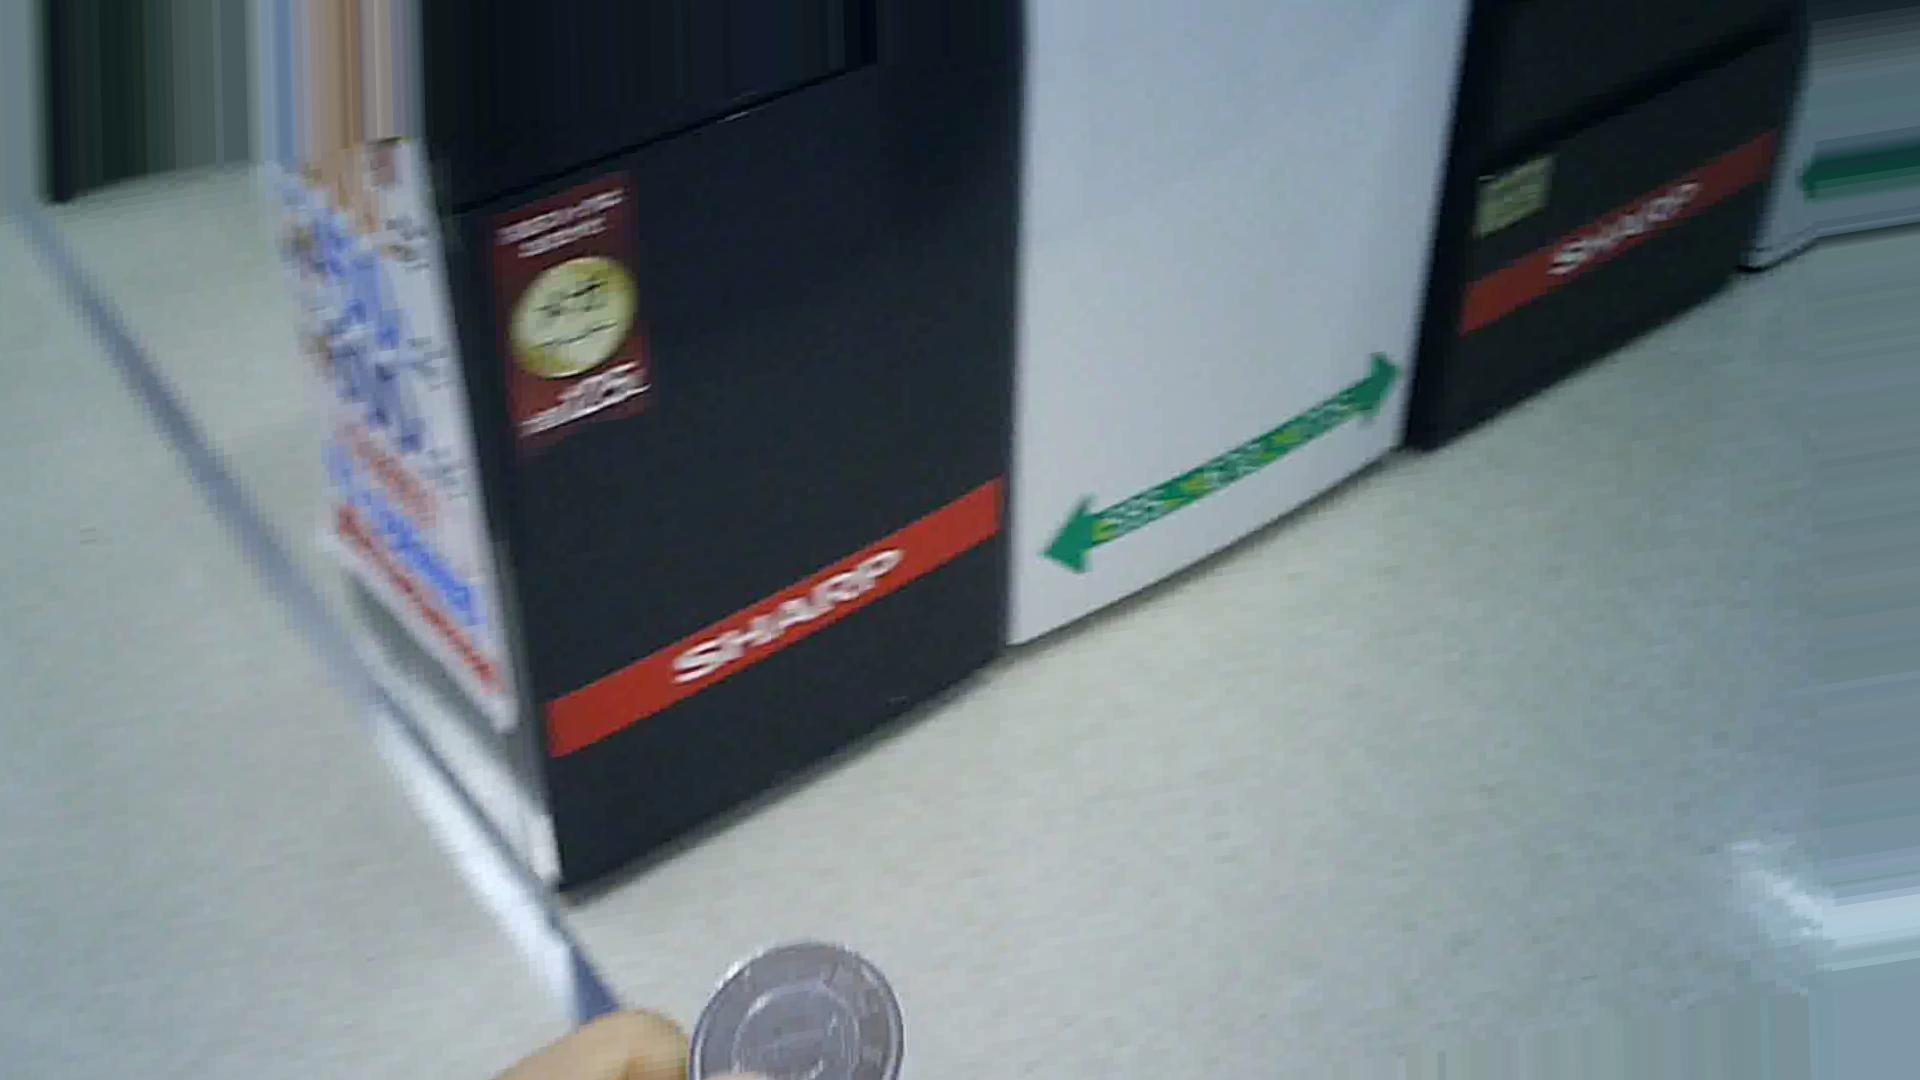1 Yen: (676, 936, 923, 1079)
